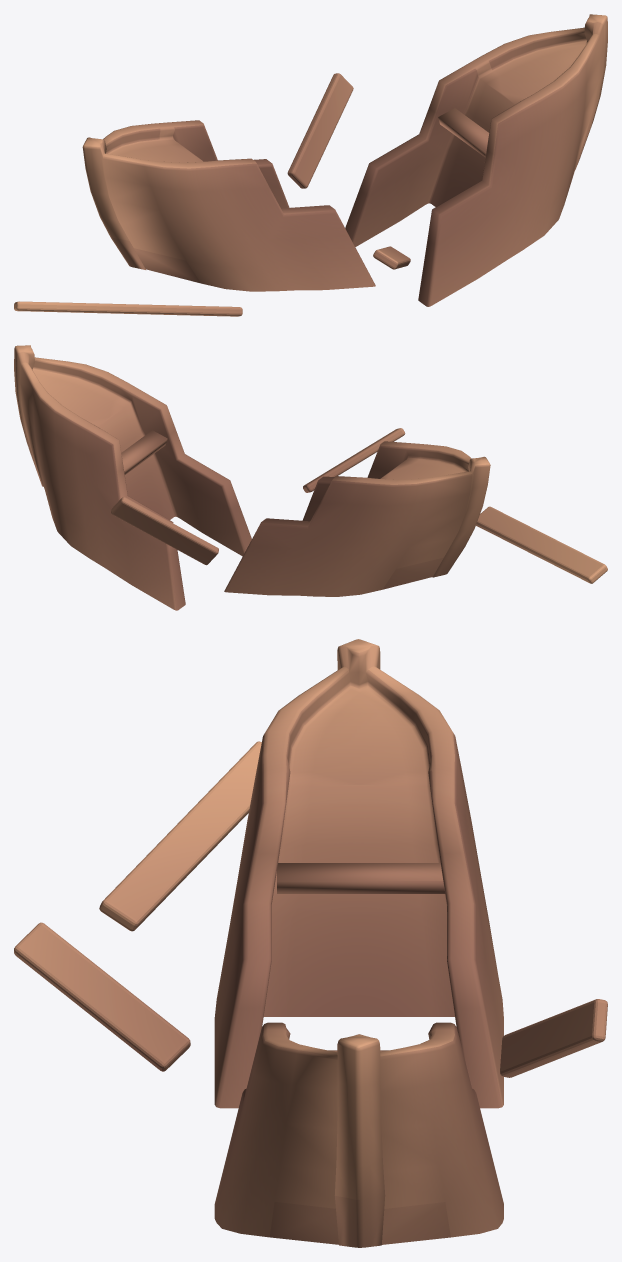
Rendered from Boot.fbx.
The picture shows the model from 3 angles, top to bottom: view 1: azimuth 30°, elevation 25°; view 2: azimuth 150°, elevation 25°; view 3: azimuth 270°, elevation 25°; orthographic projection. The views are drawn at different scales.
Visible parts, largest first — view 1: Cube.010; view 2: Cube.010; view 3: Cube.010.
Boxes of the visible parts, bbox=[...] form: Cube.010: bbox=[14, 14, 607, 316]; Cube.010: bbox=[14, 345, 607, 610]; Cube.010: bbox=[14, 639, 607, 1247].
Size of the model in its own units: 1136 by 359 by 581.
